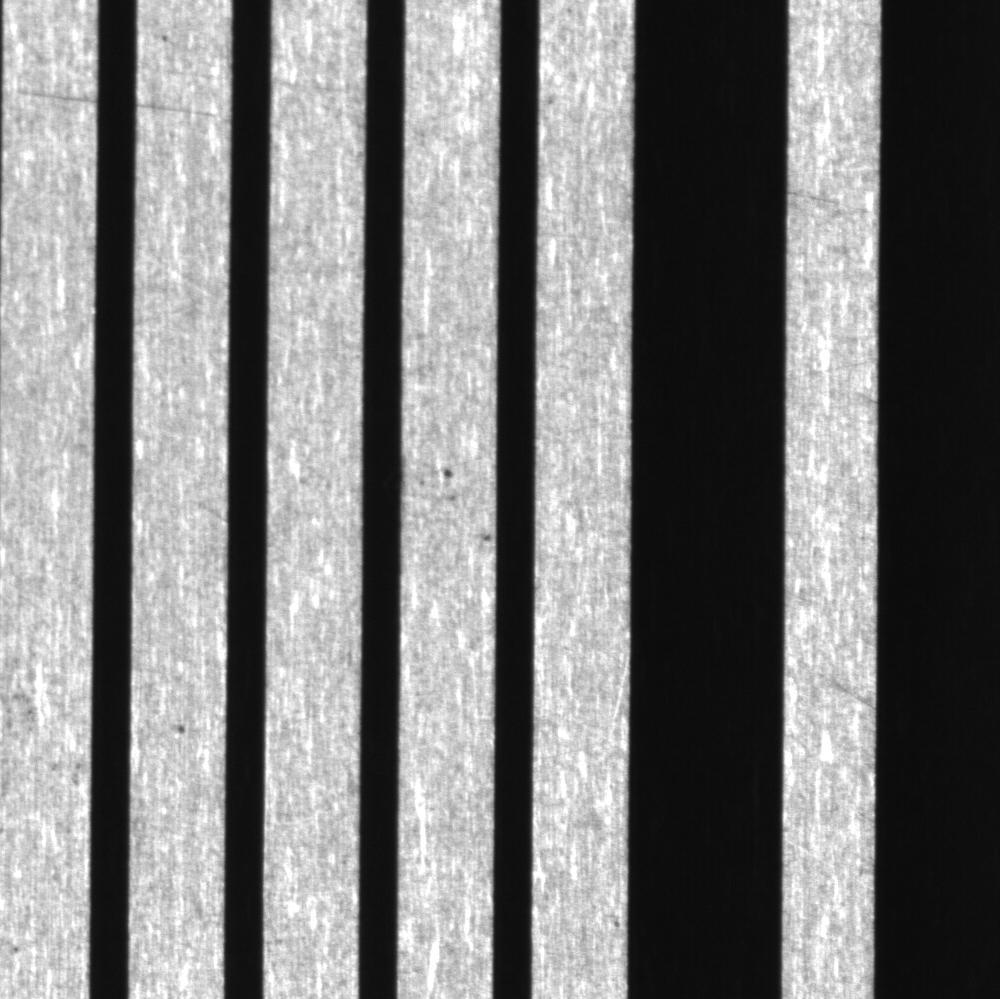Etching: (472, 516, 496, 551)
Pinhole: (160, 704, 208, 749), (151, 18, 180, 53), (431, 460, 459, 488)
Scar: (139, 240, 228, 313), (785, 650, 876, 720), (786, 831, 873, 898), (788, 182, 876, 221), (134, 94, 233, 128), (5, 81, 98, 112), (785, 356, 875, 387), (535, 414, 623, 445), (538, 216, 622, 244), (183, 489, 227, 526)
